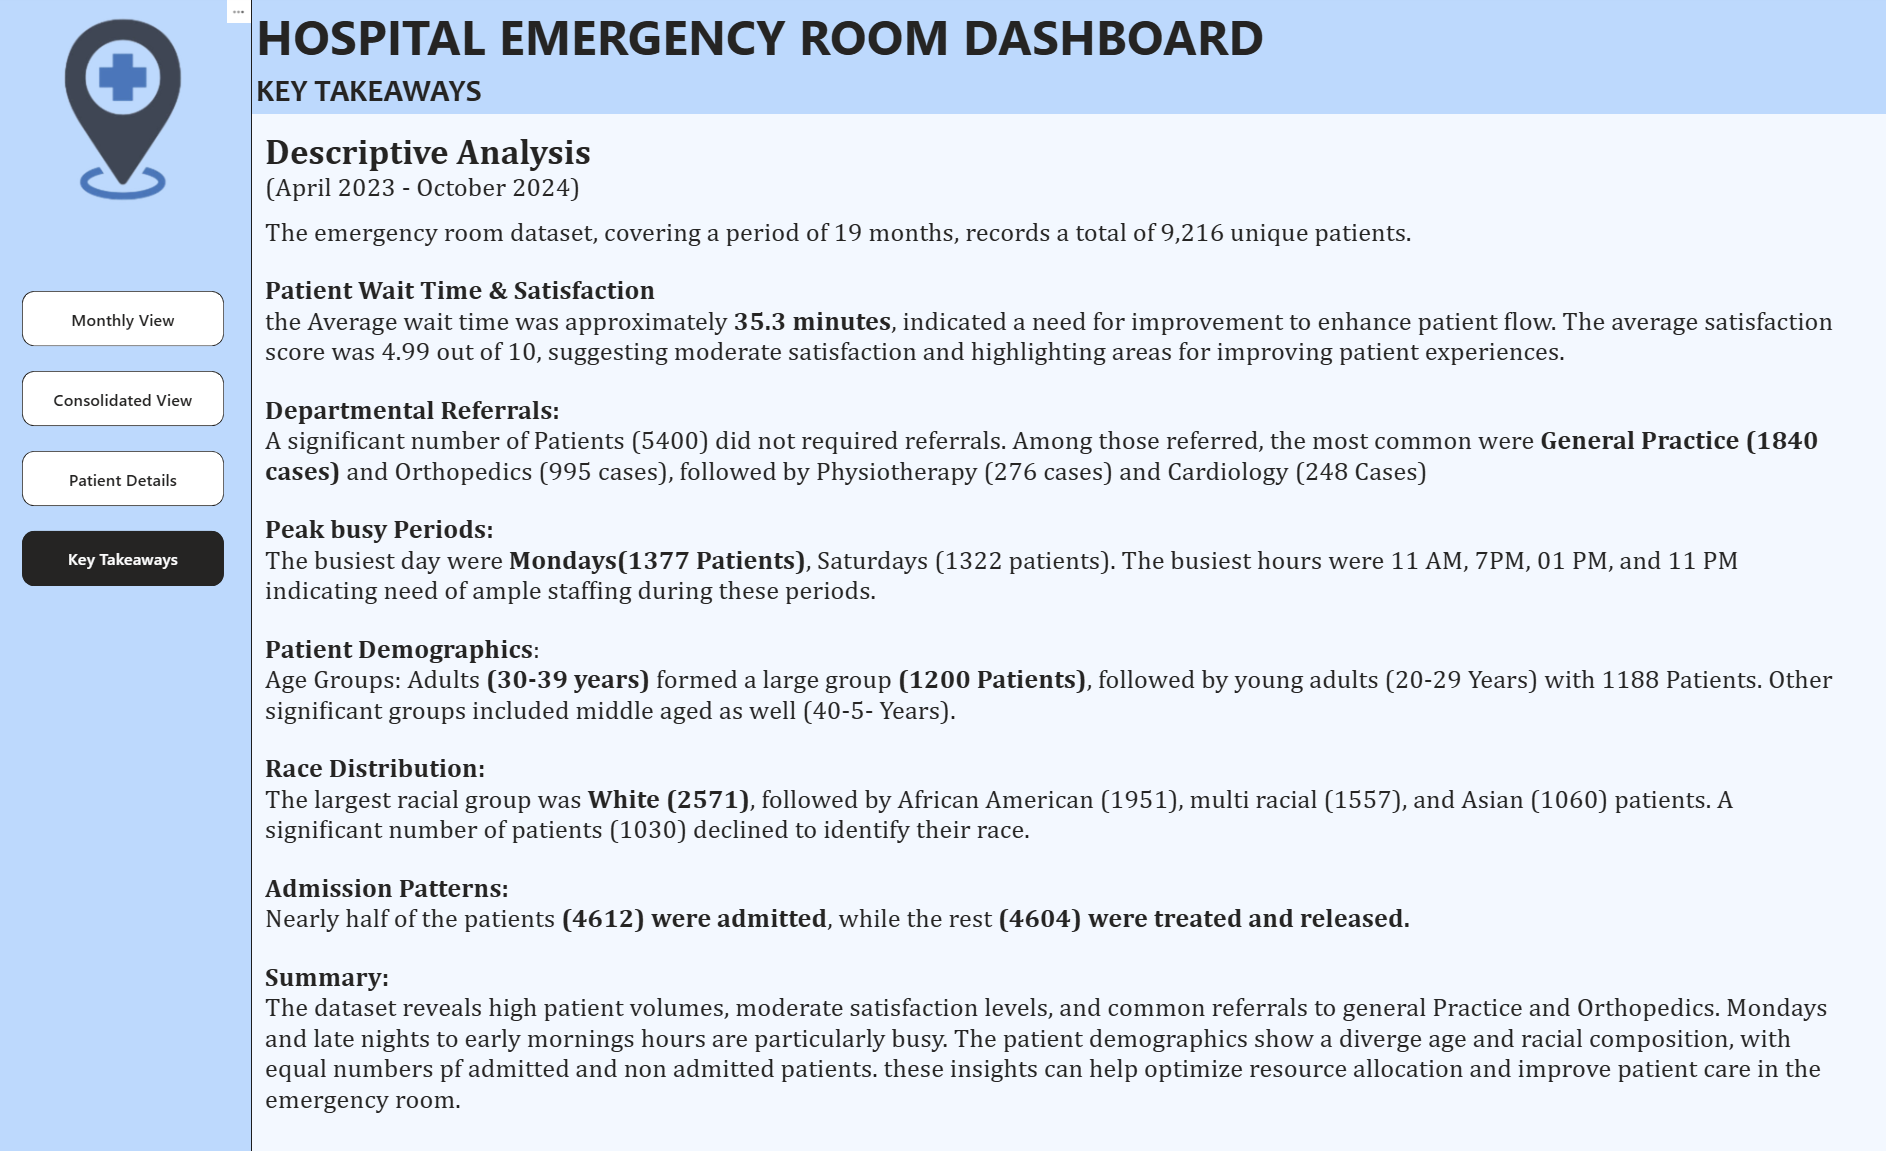

The page's visual inventory and layout, read from the dashboard file:
{"tool":"powerbi","page":{"name":"Key Takeaways","canvas":[2300,1400],"ordinal":3},"visuals":[{"type":"shape","box":[0,0,310.6,1400],"z":0},{"type":"shape","box":[310.6,0,1989.6,139.5],"z":1000},{"type":"textbox","box":[310.6,0,1269,92.2],"z":2000},{"type":"textbox","box":[310.6,82.5,296,57],"z":3000},{"type":"image","box":[9.7,14.6,300.9,239],"z":4000},{"type":"textbox","box":[321.5,154.1,1931.4,1235],"z":5000},{"type":"pageNavigator","box":[31.5,354.2,245.1,359.1],"z":6000}]}

Visuals, with their boxes on the page's 2300x1400 design canvas (x1, y1, x2, y2). These are canvas units, not pixel positions in the 1886x1151 screenshot, which may show the page scaled, cropped or inside an application window:
shape: left=0, top=0, right=311, bottom=1400
shape: left=311, top=0, right=2300, bottom=140
textbox: left=311, top=0, right=1580, bottom=92
textbox: left=311, top=82, right=607, bottom=140
image: left=10, top=15, right=311, bottom=254
textbox: left=322, top=154, right=2253, bottom=1389
pageNavigator: left=32, top=354, right=277, bottom=713
